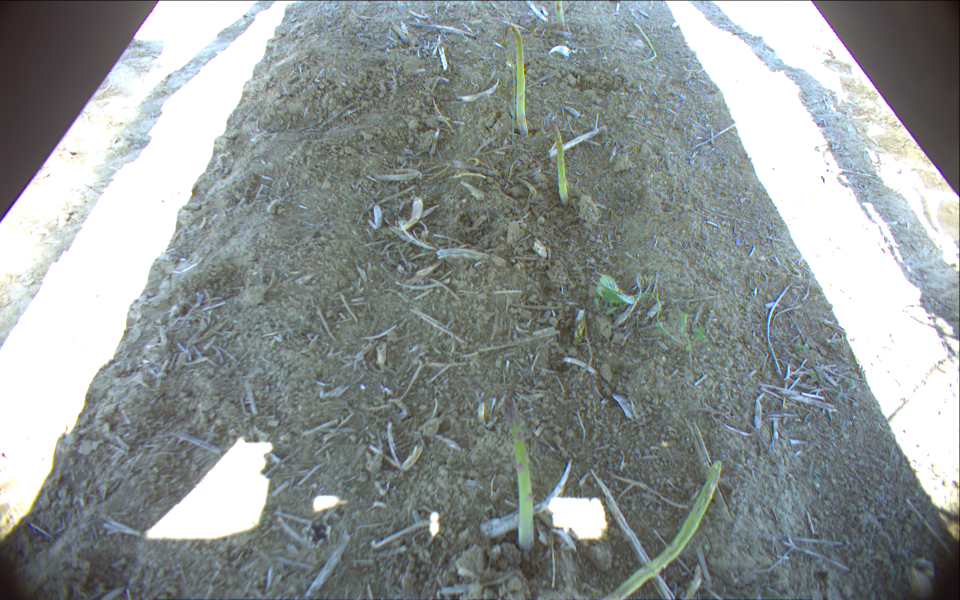aspa: (496, 394, 535, 552), (498, 21, 529, 139), (543, 118, 569, 206), (551, 1, 567, 33)
